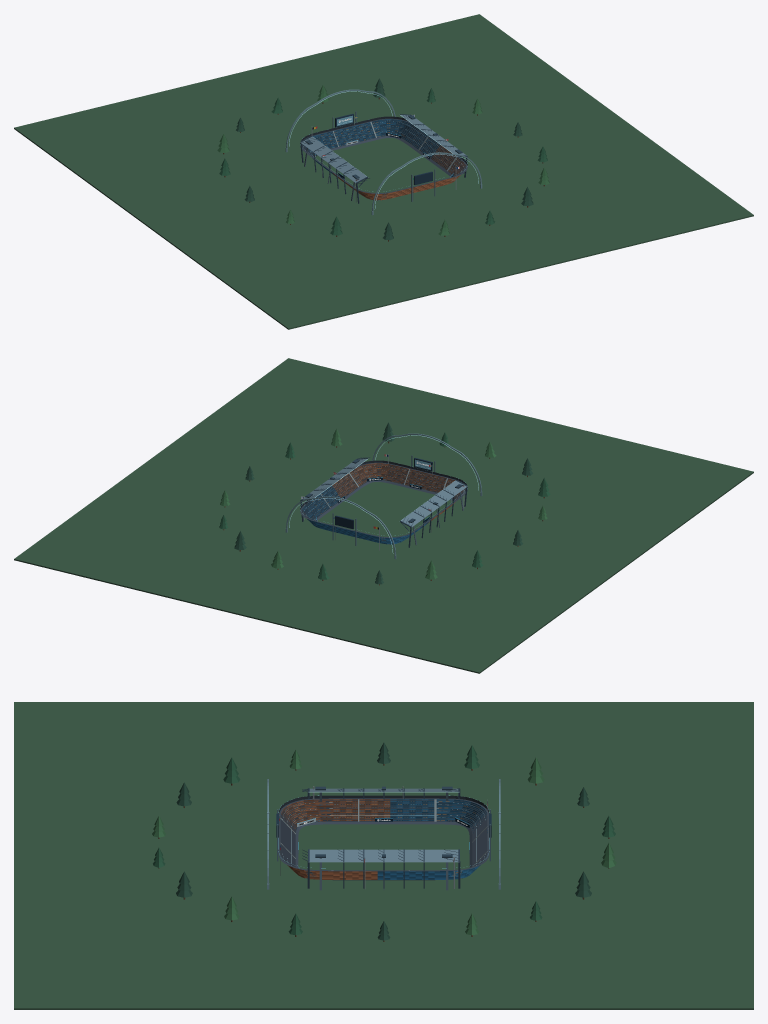
File: champions-v2.glb
3 renders of one model, top to bottom at view 1: azimuth 30°, elevation 25°; view 2: azimuth 150°, elevation 25°; view 3: azimuth 270°, elevation 25°, orthographic. The views are drawn at different scales.
Parts seen in each view (by area): view 1: Arena architecture / champions; view 2: Arena architecture / champions; view 3: Arena architecture / champions, Arena lettering and light ribbons / champions.
Boxes of the visible parts, x1,y1,x2,y2 form: Arena architecture / champions: [14, 14, 753, 329]; Arena architecture / champions: [14, 358, 753, 673]; Arena architecture / champions: [14, 702, 753, 1009]; Arena lettering and light ribbons / champions: [278, 792, 489, 868].
Size of the model in its own units: 61300 by 6270 by 62600.
Materials: 4 (2 with a texture image).
